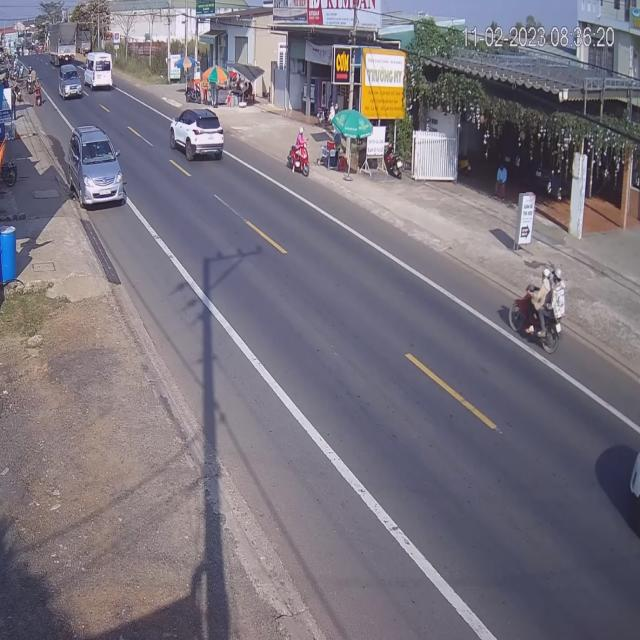bus: (85, 50, 114, 93)
car: (67, 125, 126, 209), (174, 106, 229, 163), (60, 63, 83, 100)
motorbike: (510, 266, 568, 356), (286, 130, 308, 177), (32, 80, 42, 106)
